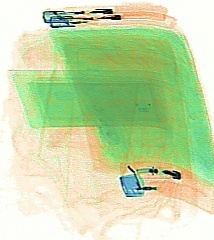lighter: (118, 163, 213, 215), (43, 3, 168, 23), (47, 11, 177, 30)
